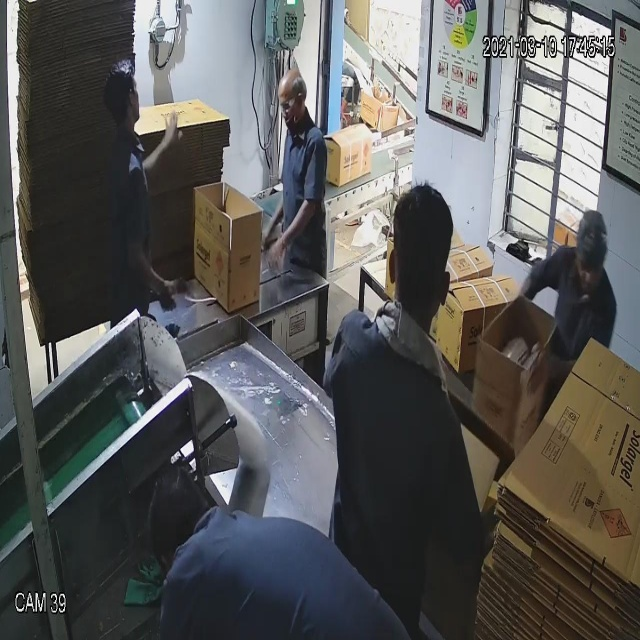Sin_guantes: (138, 113, 195, 202), (109, 232, 179, 304), (268, 192, 317, 274)
